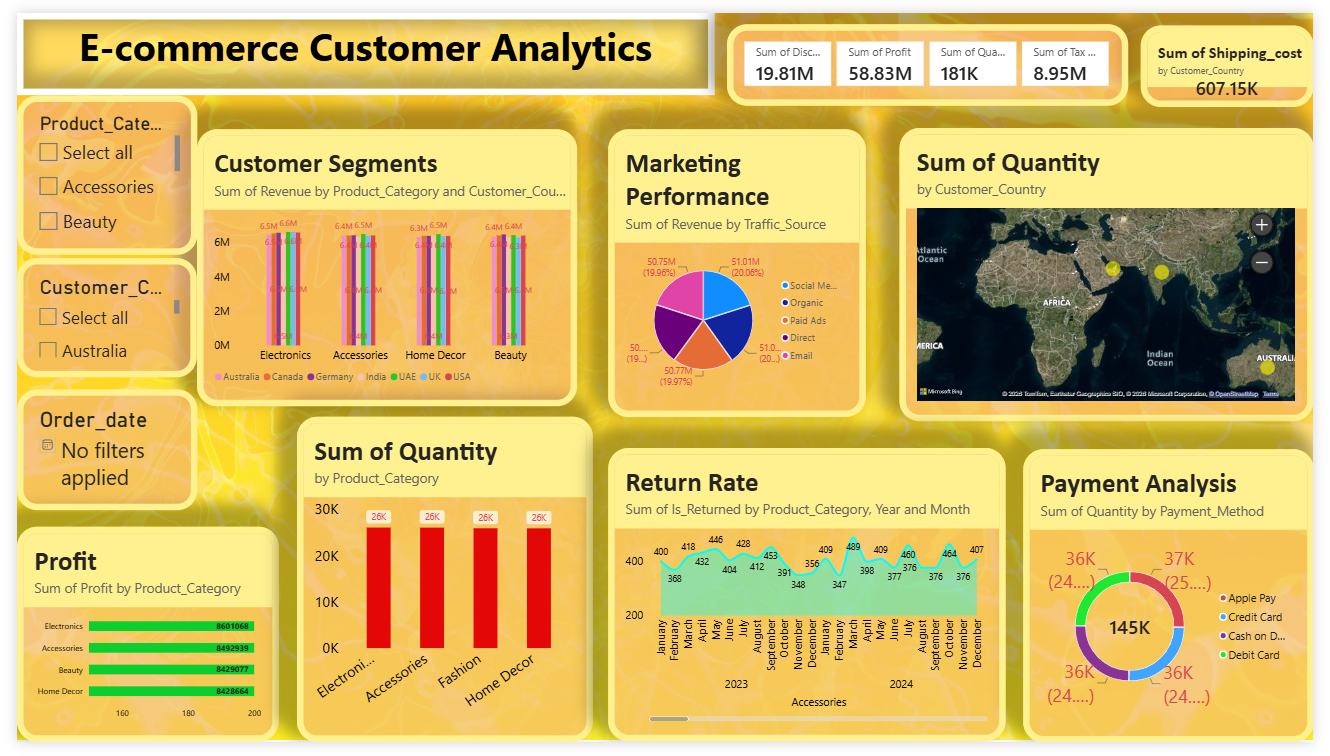

This screenshot's page, from the dashboard's own definition file:
{"tool":"powerbi","page":{"name":"Page 1","canvas":[1920,1080],"ordinal":0},"visuals":[{"type":"textbox","box":[0,0,1033.3,121.4],"z":0},{"type":"map","fields":{"Category":["shopify_sales_customer.Customer_Country"],"Size":["Sum(shopify_sales_product.Quantity)"]},"box":[1307,170.8,613.4,434.3],"z":1000},{"type":"barChart","title":"Profit","fields":{"Category":["shopify_sales_product.Product_Category"],"Y":["Sum(shopify_sales_product.Profit)"]},"box":[0,761.2,387.8,318.4],"z":2000},{"type":"donutChart","title":"Payment Analysis","fields":{"Category":["shopify_sales_product.Payment_Method"],"Y":["Sum(shopify_sales_product.Quantity)"]},"box":[1490.2,646.3,430.2,434.3],"z":3000},{"type":"lineClusteredColumnComboChart","fields":{"Category":["shopify_sales_product.Product_Category"],"Y":["Sum(shopify_sales_product.Quantity)"]},"box":[414.3,628.6,438.4,450.8],"z":4000},{"type":"clusteredColumnChart","title":"Customer Segments","fields":{"Category":["shopify_sales_product.Product_Category"],"Series":["shopify_sales_customer.Customer_Country"],"Y":["Sum(shopify_sales_product.Revenue)"]},"box":[267.3,171.4,563.3,410.2],"z":5000},{"type":"areaChart","title":"Return Rate","fields":{"Category":["shopify_sales_product.Product_Category","shopify_sales_product.Order_date.Variation.Date Hierarchy.Year","shopify_sales_product.Order_date.Variation.Date Hierarchy.Month"],"Y":["Sum(shopify_sales_customer.Is_Returned)"]},"box":[875.5,644.9,588.7,434.3],"z":6000},{"type":"pieChart","title":"Marketing Performance","fields":{"Category":["shopify_sales_customer.Traffic_Source"],"Y":["Sum(shopify_sales_product.Revenue)"]},"box":[875.5,171.4,381.6,426.5],"z":7000},{"type":"slicer","fields":{"Values":["shopify_sales_product.Order_date"]},"box":[0,557.1,267.3,179.6],"z":8000},{"type":"slicer","fields":{"Values":["shopify_sales_product.Product_Category"]},"box":[0,122.4,224.5,234.7],"z":9000},{"type":"kpi","fields":{"Indicator":["Sum(shopify_sales_product.Shipping_cost)"],"TrendLine":["shopify_sales_customer.Customer_Country"]},"box":[1665.3,18.4,255.8,121.2],"z":10000},{"type":"cardVisual","fields":{"Data":["Sum(shopify_sales_product.Discounted_Price)","Sum(shopify_sales_product.Profit)","Sum(shopify_sales_product.Quantity)","Sum(shopify_sales_product.Tax Amount)"]},"box":[1051,16.3,594.2,121.2],"z":11000},{"type":"slicer","fields":{"Values":["shopify_sales_customer.Customer_Country"]},"box":[0,363.3,234.7,177.6],"z":12000}]}

Visuals, with their boxes in screenshot pixels (x1, y1, x2, y2), scaled from the page's 1920x1080 canvas onto the 1330x756 screenshot:
textbox: <bbox>0, 0, 716, 85</bbox>
map - shopify_sales_customer.Customer_Country x Sum(shopify_sales_product.Quantity): <bbox>905, 120, 1329, 424</bbox>
"Profit" barChart: <bbox>0, 533, 269, 755</bbox>
"Payment Analysis" donutChart: <bbox>1032, 452, 1329, 755</bbox>
lineClusteredColumnComboChart - shopify_sales_product.Product_Category x Sum(shopify_sales_product.Quantity): <bbox>287, 440, 591, 755</bbox>
"Customer Segments" clusteredColumnChart: <bbox>185, 120, 575, 407</bbox>
"Return Rate" areaChart: <bbox>606, 451, 1014, 755</bbox>
"Marketing Performance" pieChart: <bbox>606, 120, 871, 419</bbox>
slicer - shopify_sales_product.Order_date: <bbox>0, 390, 185, 516</bbox>
slicer - shopify_sales_product.Product_Category: <bbox>0, 86, 156, 250</bbox>
kpi - Sum(shopify_sales_product.Shipping_cost) x shopify_sales_customer.Customer_Country: <bbox>1154, 13, 1329, 98</bbox>
cardVisual - Sum(shopify_sales_product.Discounted_Price) x Sum(shopify_sales_product.Profit): <bbox>728, 11, 1140, 96</bbox>
slicer - shopify_sales_customer.Customer_Country: <bbox>0, 254, 163, 379</bbox>
